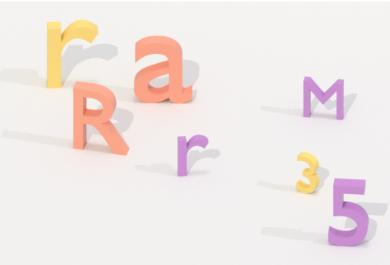3: (292, 148, 322, 196)
5: (327, 175, 371, 251)
M: (299, 72, 346, 123)
R: (70, 79, 130, 158)
a: (129, 31, 197, 107)
r: (43, 16, 100, 91), (175, 131, 209, 180)
